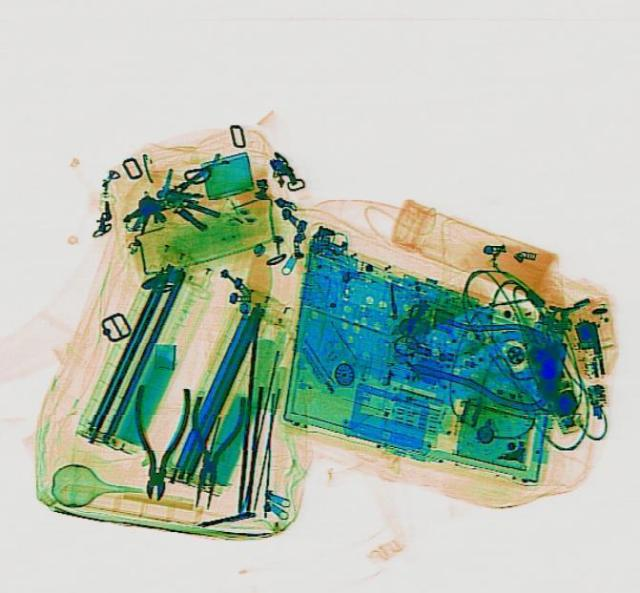Pliers: (176, 389, 244, 511), (126, 382, 190, 499)
